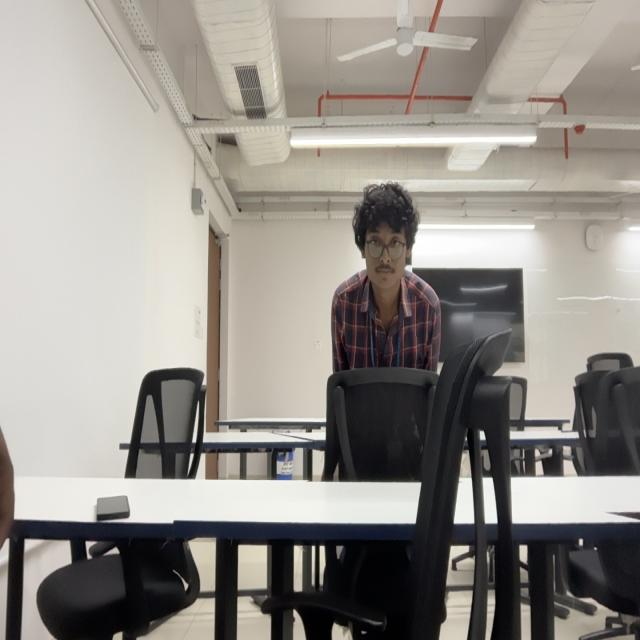darshan: (352, 181, 417, 292)
